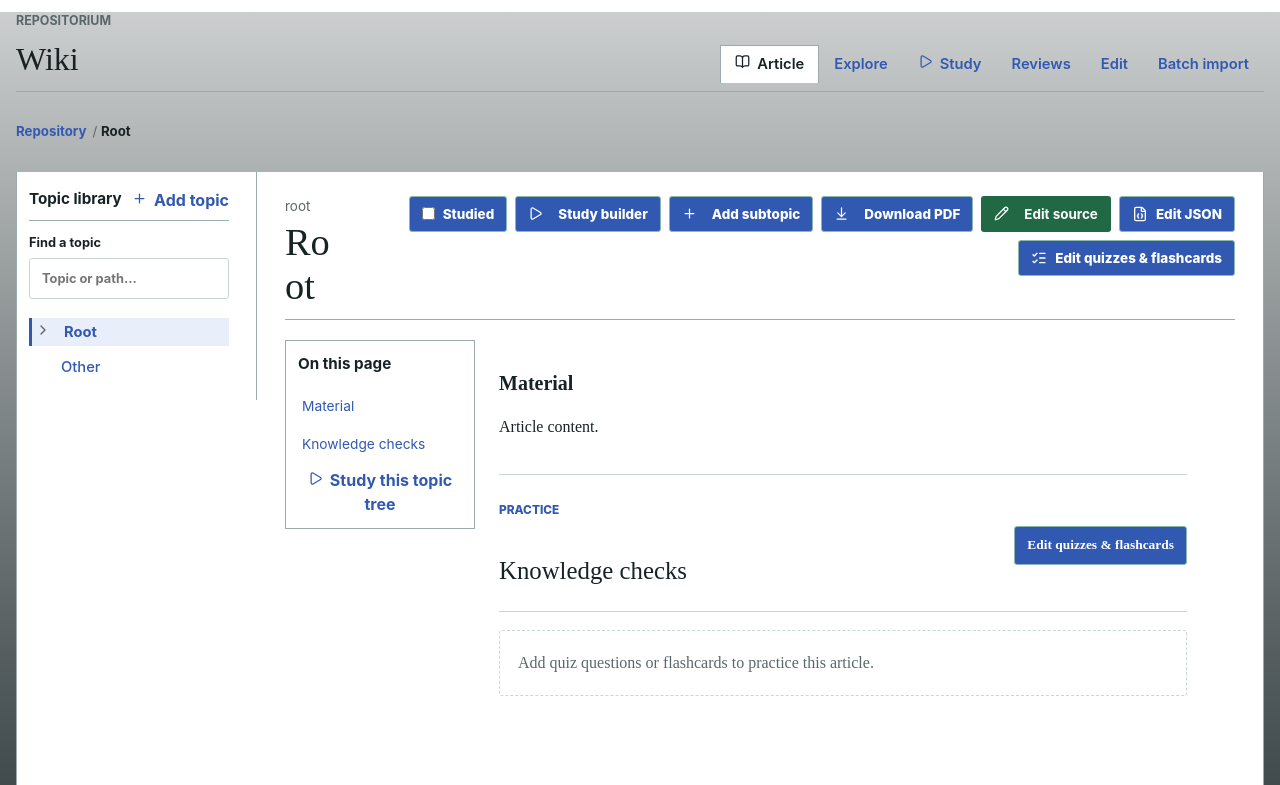
disables duplicate saves and applies an in-flight response only to its owning page
Later steps or results of the test are not shown.
Click the checkbox labelled "Studied".
click(428, 214)  # box [422,207,435,220]
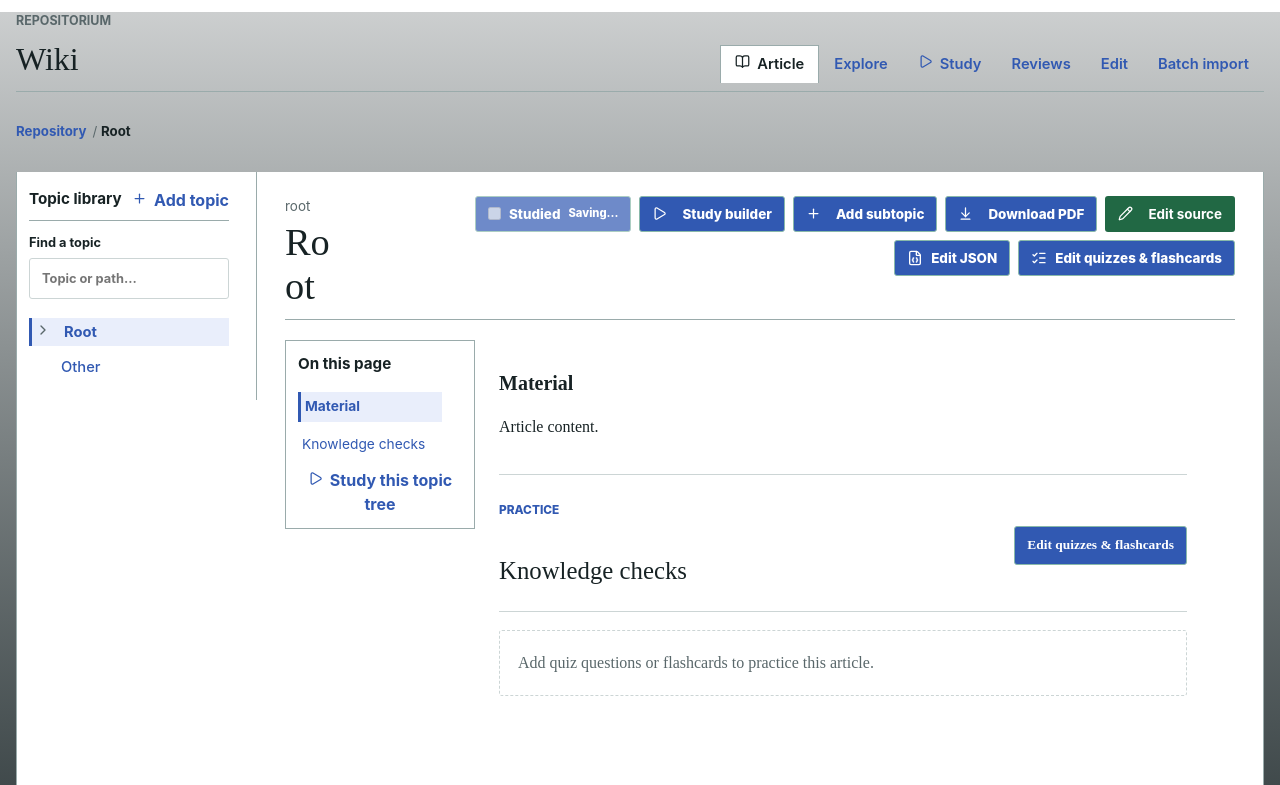
Check: the checkbox labelled "Studied" is not checked, box [488,207,501,220]
Check: the checkbox labelled "Studied" is disabled, box [488,207,501,220]
